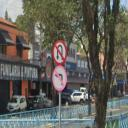NoVirarEsquerda: (52, 65, 68, 91)
NoVirarU: (52, 39, 68, 66)
